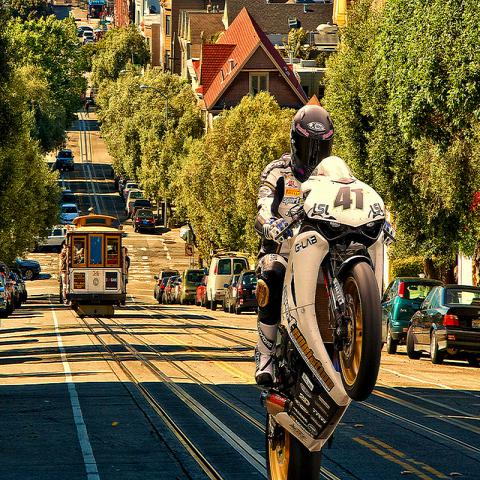car: (1, 26, 259, 314), (406, 282, 479, 369), (381, 277, 445, 354), (206, 253, 250, 311), (177, 267, 208, 304), (9, 255, 42, 280), (132, 208, 156, 232), (125, 188, 144, 218), (59, 203, 82, 225), (195, 274, 209, 307), (131, 198, 152, 218), (164, 277, 177, 303), (158, 277, 170, 304), (61, 190, 75, 202)
motorcycle: (260, 156, 398, 474)
